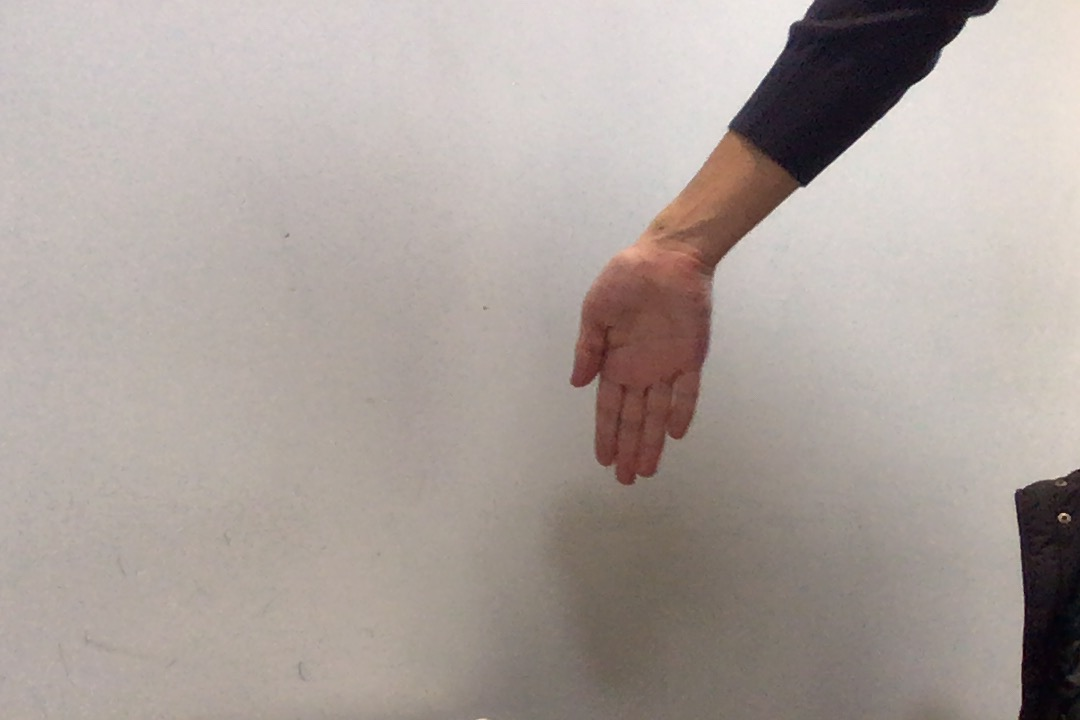palmhand: (565, 241, 717, 491)
